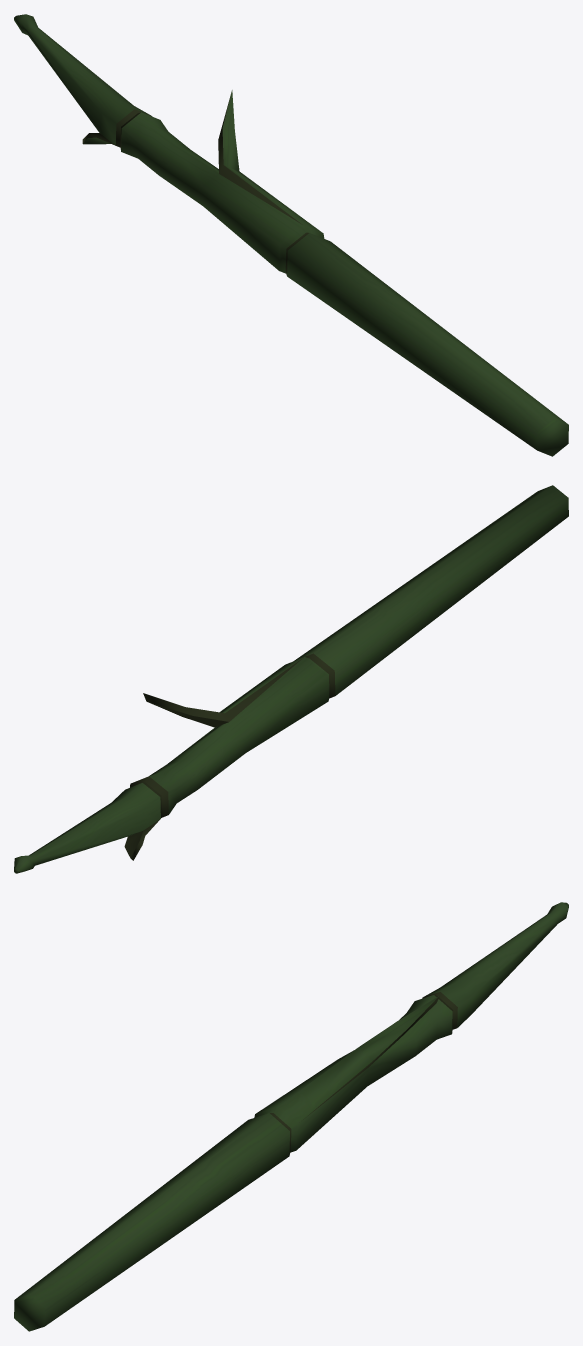
The model's file is Phase 4 Bamboo 2.fbx.
3 renders of one model, top to bottom at view 1: azimuth 30°, elevation 25°; view 2: azimuth 150°, elevation 25°; view 3: azimuth 330°, elevation 25°, orthographic. The views are drawn at different scales.
Parts seen in each view (by area): view 1: Phase 4 Bamboo 2; view 2: Phase 4 Bamboo 2; view 3: Phase 4 Bamboo 2.
Boxes of the visible parts, box(x1,y1,x2,y2) form: Phase 4 Bamboo 2: box(14, 14, 568, 456); Phase 4 Bamboo 2: box(14, 485, 568, 873); Phase 4 Bamboo 2: box(14, 902, 568, 1331).
Bounding box in the file's own units: 50.69 × 64.54 × 659.
